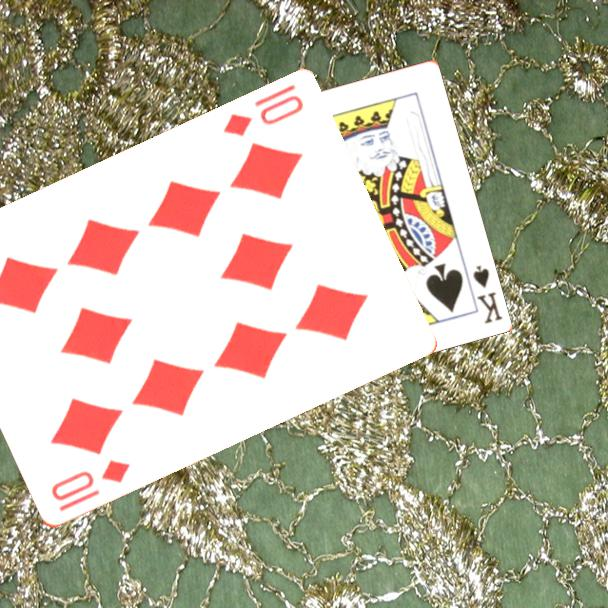d10: (219, 81, 306, 140), (47, 457, 133, 505)
s13: (469, 261, 505, 326)
